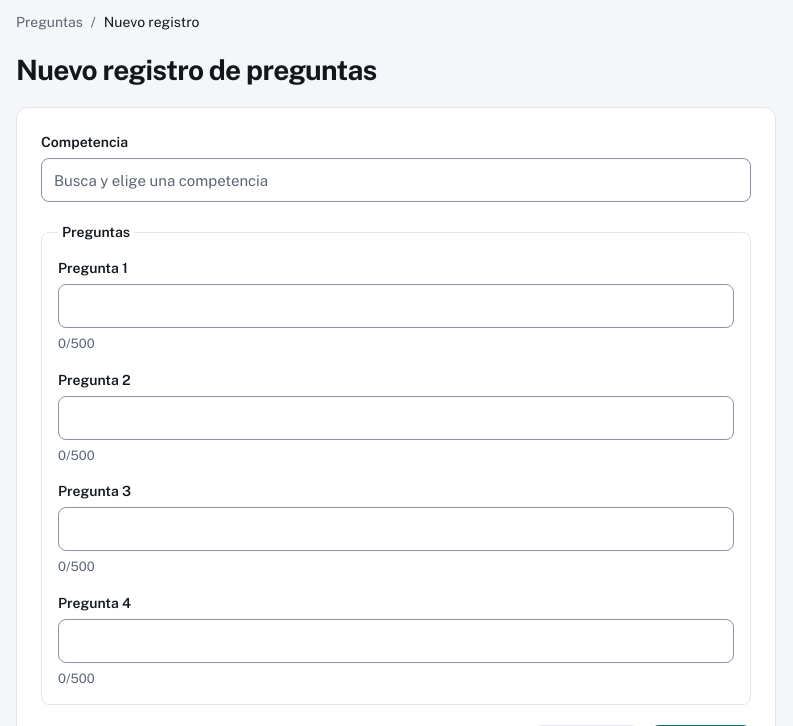
PreguntasFormPage (crear) › al elegir la competencia muestra nombre, descripción y tipo en solo lectura
What coordinates should you click on to do the following:
click the dropdown labelled "Competencia"
I would click on:
 (396, 180)
Its box is [41,158,751,202].
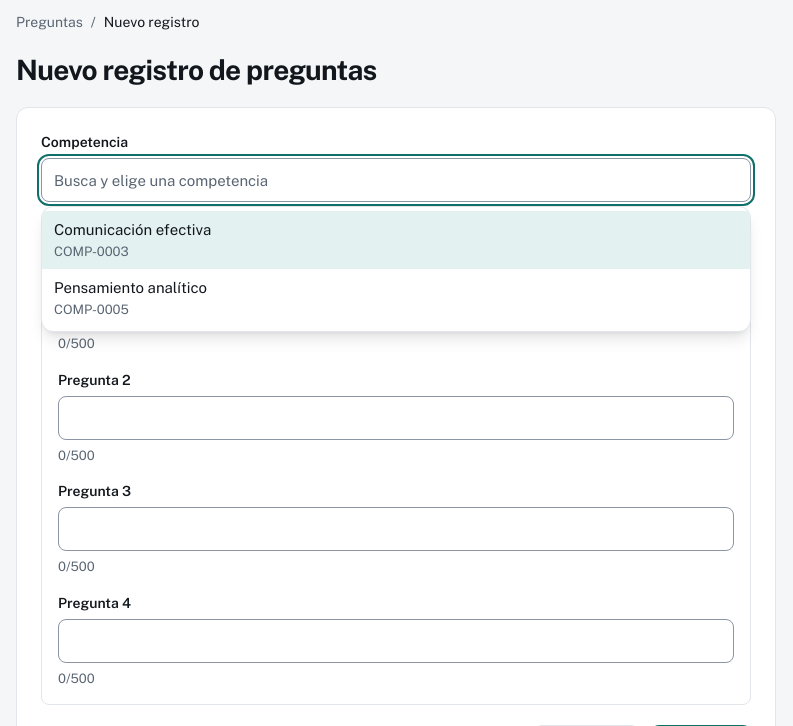
What coordinates should you click on to do the following:
click the option "Pensamiento analítico COMP-0005"
I would click on:
 (130, 298)
Its box is [54,279,207,316].
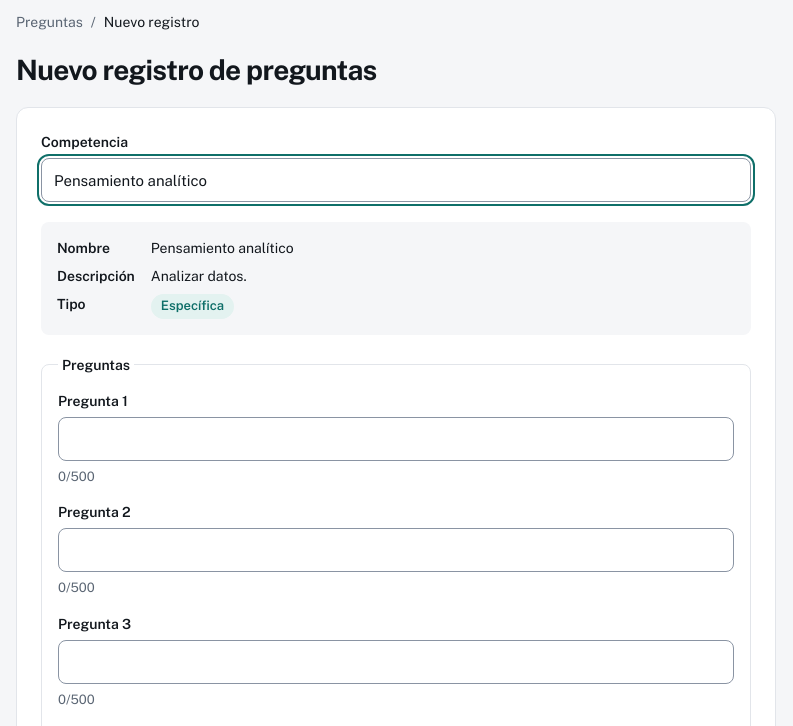
Check: the text "Pensamiento analítico" is shown, box [151,240,294,256]
Check: the text "Analizar datos." is shown, box [151,268,247,284]
Check: the text "Específica" is shown, box [151,294,234,319]
